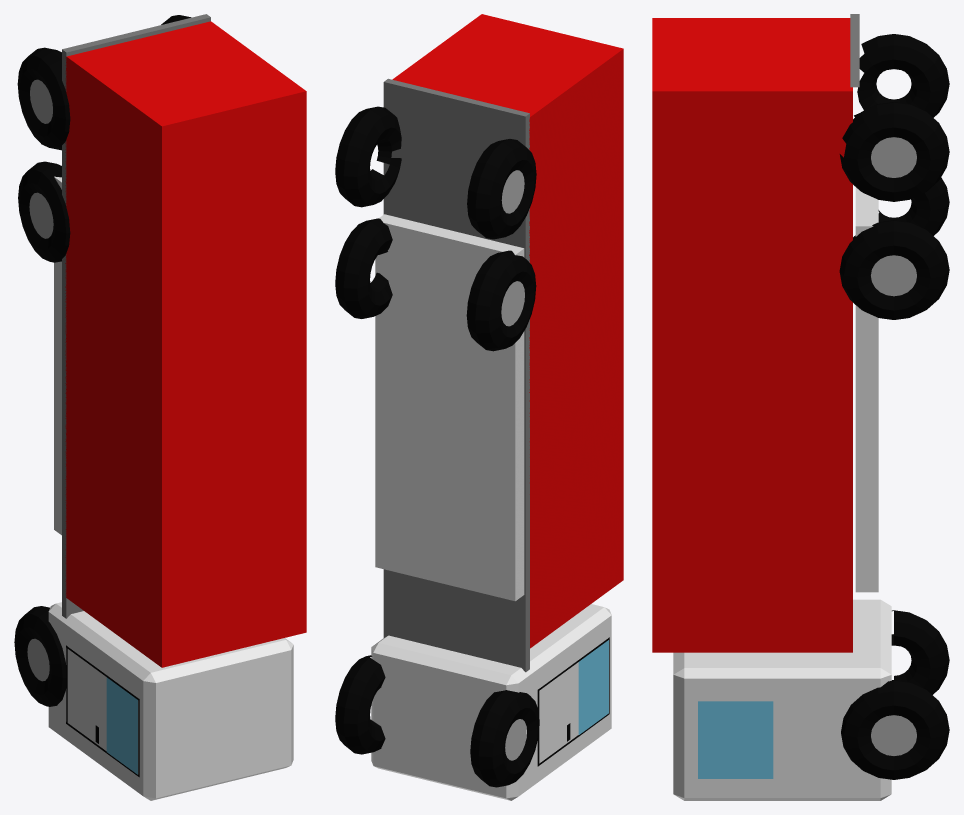
Rendered from lorry_1.glb.
The picture shows the model from 3 angles, left to right: view 1: azimuth 30°, elevation 25°; view 2: azimuth 150°, elevation 25°; view 3: azimuth 270°, elevation 25°; orthographic projection. The views are drawn at different scales.
Visible parts, largest first — view 1: Cube.002; view 2: Cube.002; view 3: Cube.002.
Part boxes in pixels (x1,y1,x2,y2): Cube.002: (14,14,306,800); Cube.002: (335,14,623,800); Cube.002: (652,14,949,800).
Size of the model in its own units: 0.0845 by 0.3298 by 0.1238.
